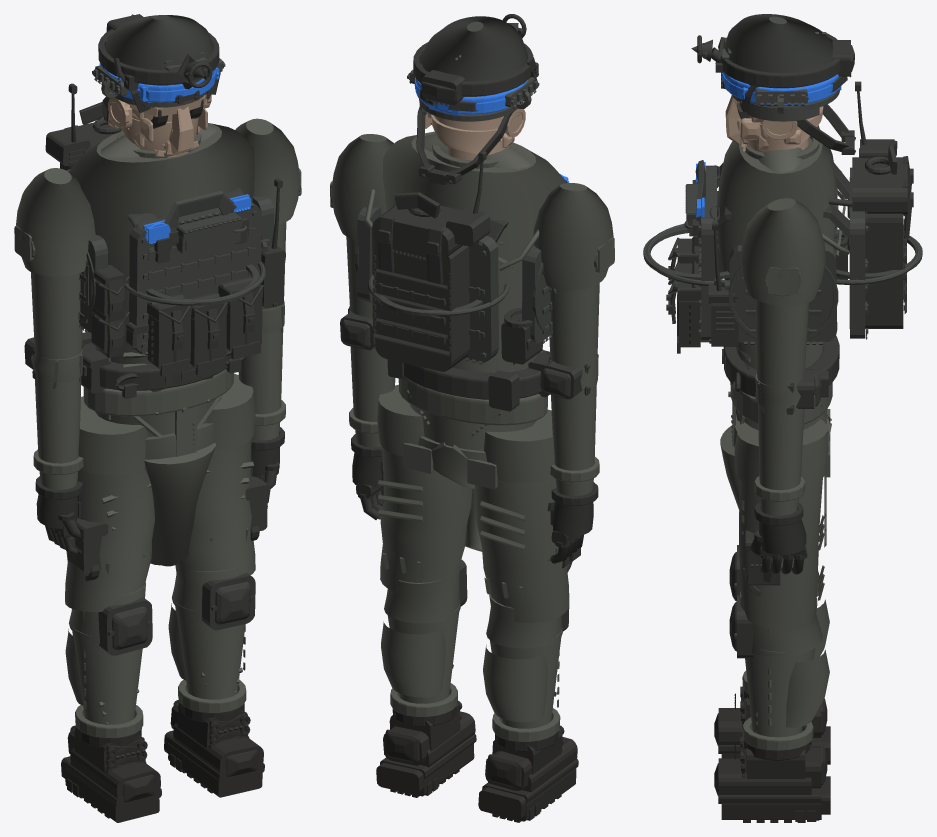
Rendered from human_blue.glb.
3 views of the same model, side by side, from view 1: azimuth 30°, elevation 25°; view 2: azimuth 150°, elevation 25°; view 3: azimuth 270°, elevation 25° (orthographic).
Parts seen in each view (by area): view 1: human_blue__human_blue__left_leg, human_blue__human_blue__right_leg, human_blue__human_blue__left_arm, human_blue__human_blue__torso, human_blue__human_blue__vest_front, human_blue__human_blue__pelvis, human_blue__human_blue__vest_magazines, human_blue__human_blue__right_arm, human_blue__human_blue__right_leg_boot, human_blue__human_blue__left_leg_boot, human_blue__human_blue__helmet, human_blue__human_blue__vest_utilities (+13 smaller); view 2: human_blue__human_blue__left_leg, human_blue__human_blue__right_leg, human_blue__human_blue__pack, human_blue__human_blue__left_arm, human_blue__human_blue__torso, human_blue__human_blue__right_arm, human_blue__human_blue__pelvis, human_blue__human_blue__helmet, human_blue__human_blue__right_leg_boot, human_blue__human_blue__left_leg_boot, human_blue__human_blue__vest_back, human_blue__human_blue__belt (+10 smaller); view 3: human_blue__human_blue__right_leg, human_blue__human_blue__right_arm, human_blue__human_blue__torso, human_blue__human_blue__pack, human_blue__human_blue__right_leg_boot, human_blue__human_blue__helmet, human_blue__human_blue__vest_front, human_blue__human_blue__vest_cummerbund, human_blue__human_blue__vest_back, human_blue__human_blue__right_arm_glove, human_blue__human_blue__vest_magazines, human_blue__human_blue__skull (+11 smaller).
Part boxes in pixels (x1,y1,x2,y2): human_blue__human_blue__left_leg: (65,396,154,738); human_blue__human_blue__right_leg: (168,373,255,713); human_blue__human_blue__left_arm: (14,168,95,489); human_blue__human_blue__torso: (69,123,254,436); human_blue__human_blue__vest_front: (125,190,265,355); human_blue__human_blue__pelvis: (83,369,233,566); human_blue__human_blue__vest_magazines: (147,276,263,376); human_blue__human_blue__right_arm: (235,118,301,440); human_blue__human_blue__right_leg_boot: (164,700,264,797); human_blue__human_blue__left_leg_boot: (61,725,161,822); human_blue__human_blue__helmet: (92,14,225,107); human_blue__human_blue__vest_utilities: (91,178,285,357); human_blue__human_blue__left_leg: (474,409,569,742); human_blue__human_blue__right_leg: (377,384,472,717); human_blue__human_blue__pack: (372,151,490,371); human_blue__human_blue__left_arm: (533,183,614,496); human_blue__human_blue__torso: (365,131,565,450); human_blue__human_blue__right_arm: (330,134,395,447); human_blue__human_blue__pelvis: (398,376,547,551); human_blue__human_blue__helmet: (407,16,539,121); human_blue__human_blue__right_leg_boot: (376,700,476,797); human_blue__human_blue__left_leg_boot: (478,725,578,822); human_blue__human_blue__vest_back: (367,223,509,364); human_blue__human_blue__belt: (387,349,550,411); human_blue__human_blue__right_leg: (734,419,829,750); human_blue__human_blue__right_arm: (740,198,826,515); human_blue__human_blue__torso: (717,136,849,430); human_blue__human_blue__pack: (717,81,913,328); human_blue__human_blue__right_leg_boot: (714,730,830,822); human_blue__human_blue__helmet: (722,14,839,121); human_blue__human_blue__vest_front: (643,160,729,342); human_blue__human_blue__vest_cummerbund: (714,205,838,344); human_blue__human_blue__vest_back: (834,167,922,339); human_blue__human_blue__right_arm_glove: (750,502,807,574); human_blue__human_blue__vest_magazines: (666,236,701,353); human_blue__human_blue__skull: (725,95,823,152).
Size of the model in its own units: 0.69 by 1.87 by 0.614.
